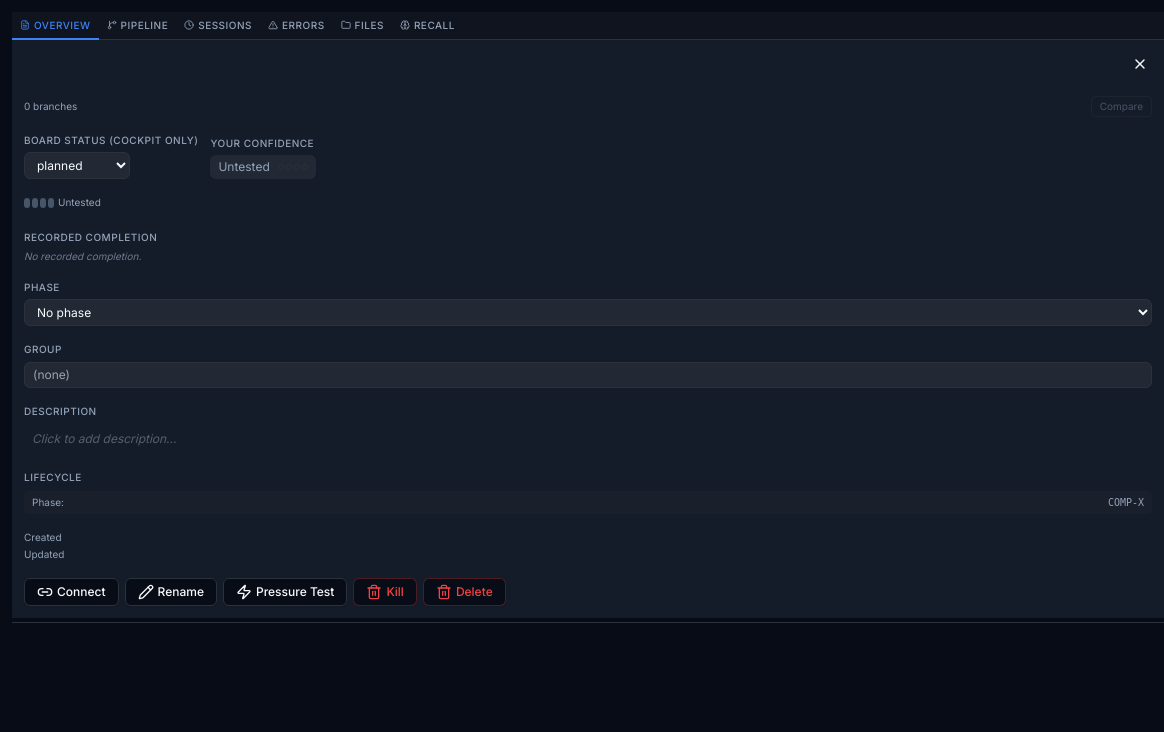
Test: <ContextItemDetail> — Recall tab wiring › shows Recall tab, activates it, and renders results
The image size is (1164, 732).
Click the tab "Recall": (427, 26) [392, 12, 463, 40]
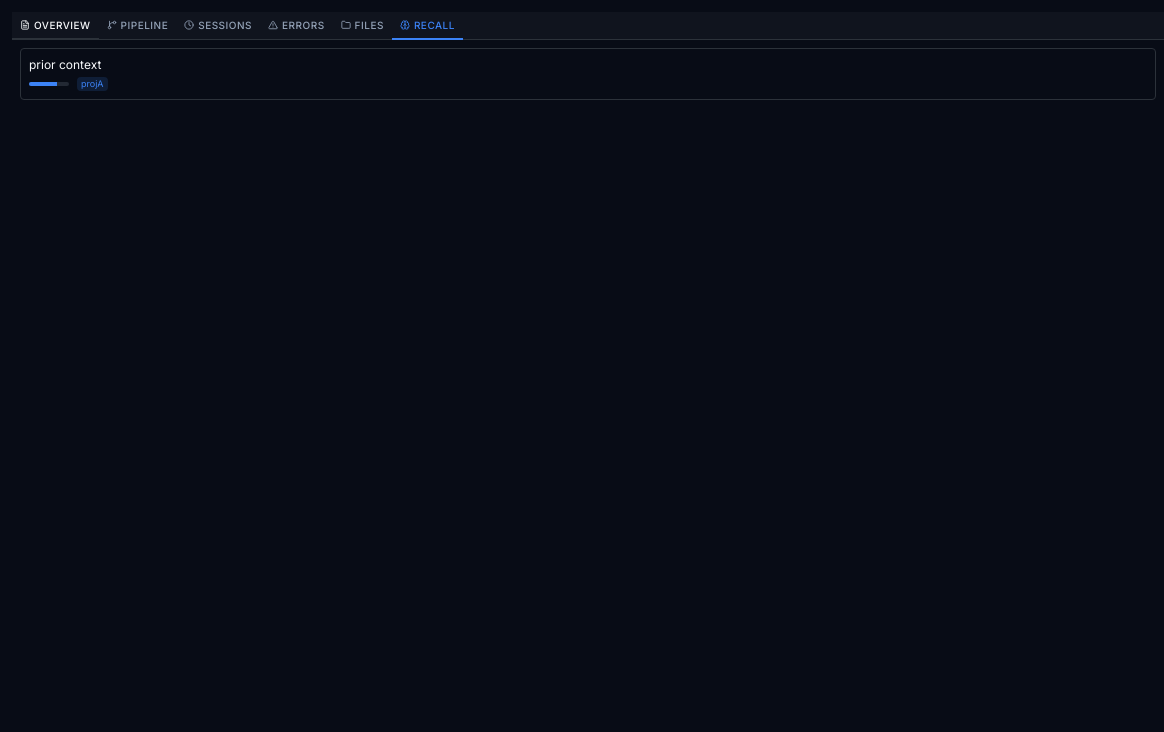
Check: the element with test id "recall-row-m1" is shown, box [20, 48, 1156, 100]
